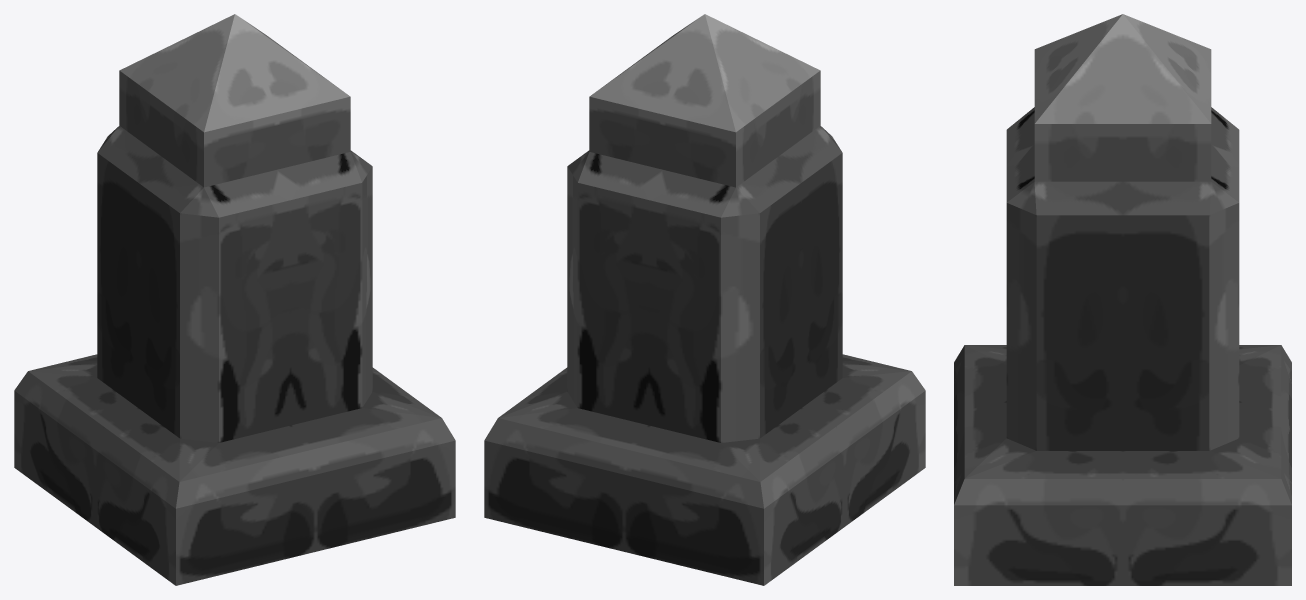
The model's file is VV-WalakuluBemmaElement-4.fbx.
3 renders of one model, left to right at view 1: azimuth 30°, elevation 25°; view 2: azimuth 150°, elevation 25°; view 3: azimuth 270°, elevation 25°, orthographic. The views are drawn at different scales.
Visible parts, largest first — view 1: WalakuluBemmaBlock-2; view 2: WalakuluBemmaBlock-2; view 3: WalakuluBemmaBlock-2.
Boxes of the visible parts, x1,y1,x2,y2 form: WalakuluBemmaBlock-2: (14, 14, 455, 585); WalakuluBemmaBlock-2: (484, 14, 925, 585); WalakuluBemmaBlock-2: (954, 14, 1291, 585).
Bounding box in the file's own units: 0.4984 × 0.8147 × 0.4984.
